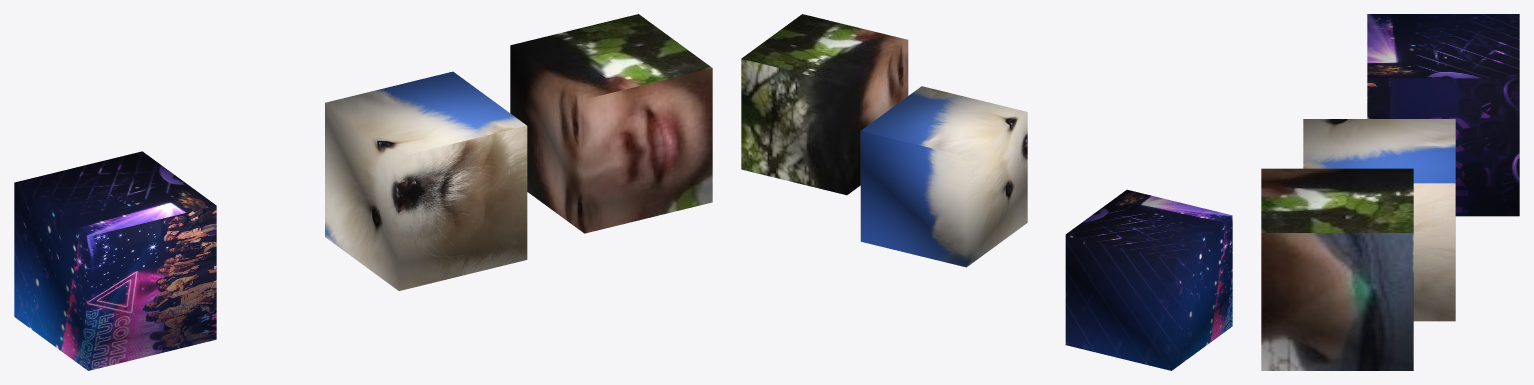
3 views of the same model, side by side, from view 1: azimuth 30°, elevation 25°; view 2: azimuth 150°, elevation 25°; view 3: azimuth 270°, elevation 25° (orthographic). The views are drawn at different scales.
Visible parts, largest first — view 1: Cube2, Cube1, Cube3; view 2: Cube2, Cube1, Cube3; view 3: Cube3, Cube2, Cube1.
Boxes of the visible parts, x1=… form: Cube2: x1=14, y1=151, x2=216, y2=370; Cube1: x1=325, y1=71, x2=527, y2=290; Cube3: x1=510, y1=14, x2=712, y2=233; Cube2: x1=1065, y1=189, x2=1232, y2=370; Cube1: x1=860, y1=86, x2=1027, y2=267; Cube3: x1=741, y1=14, x2=908, y2=195; Cube3: x1=1261, y1=168, x2=1413, y2=370; Cube2: x1=1367, y1=14, x2=1519, y2=216; Cube1: x1=1303, y1=119, x2=1455, y2=321.
Size of the model in its own units: 4.78 by 1.6 by 1.81.
Materials: 3 (3 with a texture image).
